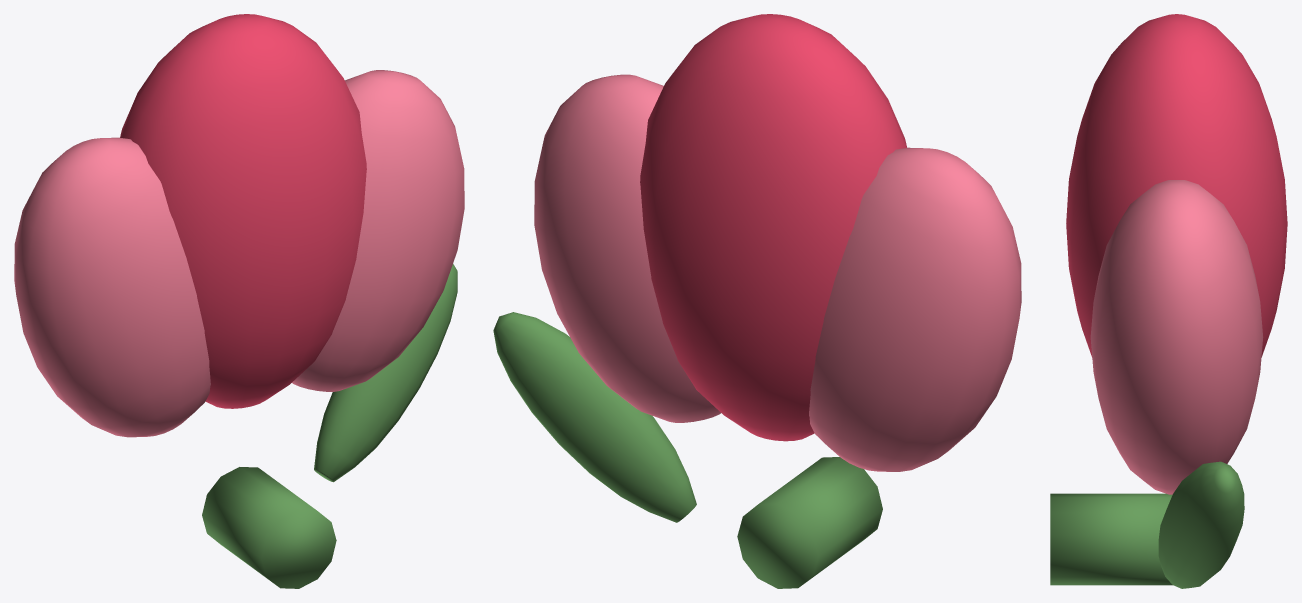
Rendered from charm-tulip.glb.
The picture shows the model from 3 angles, left to right: view 1: azimuth 30°, elevation 25°; view 2: azimuth 150°, elevation 25°; view 3: azimuth 270°, elevation 25°; orthographic projection. The views are drawn at different scales.
Parts seen in each view (by area): view 1: Sphere, Sphere.001, Sphere.002, Cylinder, Sphere.003; view 2: Sphere, Sphere.001, Sphere.002, Sphere.003, Cylinder; view 3: Sphere.002, Sphere, Cylinder, Sphere.003.
Part boxes in pixels (box(x1,y1,x2,y2)): Sphere: box(120, 14, 366, 408); Sphere.001: box(14, 137, 210, 437); Sphere.002: box(292, 70, 464, 391); Cylinder: box(202, 467, 336, 588); Sphere.003: box(314, 264, 457, 482); Sphere: box(640, 14, 907, 441); Sphere.001: box(809, 147, 1021, 471); Sphere.002: box(534, 74, 720, 422); Sphere.003: box(493, 312, 696, 522); Cylinder: box(737, 457, 882, 588); Sphere.002: box(1090, 180, 1263, 494); Sphere: box(1066, 14, 1287, 357); Cylinder: box(1050, 493, 1172, 585); Sphere.003: box(1158, 461, 1244, 588).
Bounding box in the file's own units: 0.00972 × 0.0107 × 0.00413.
